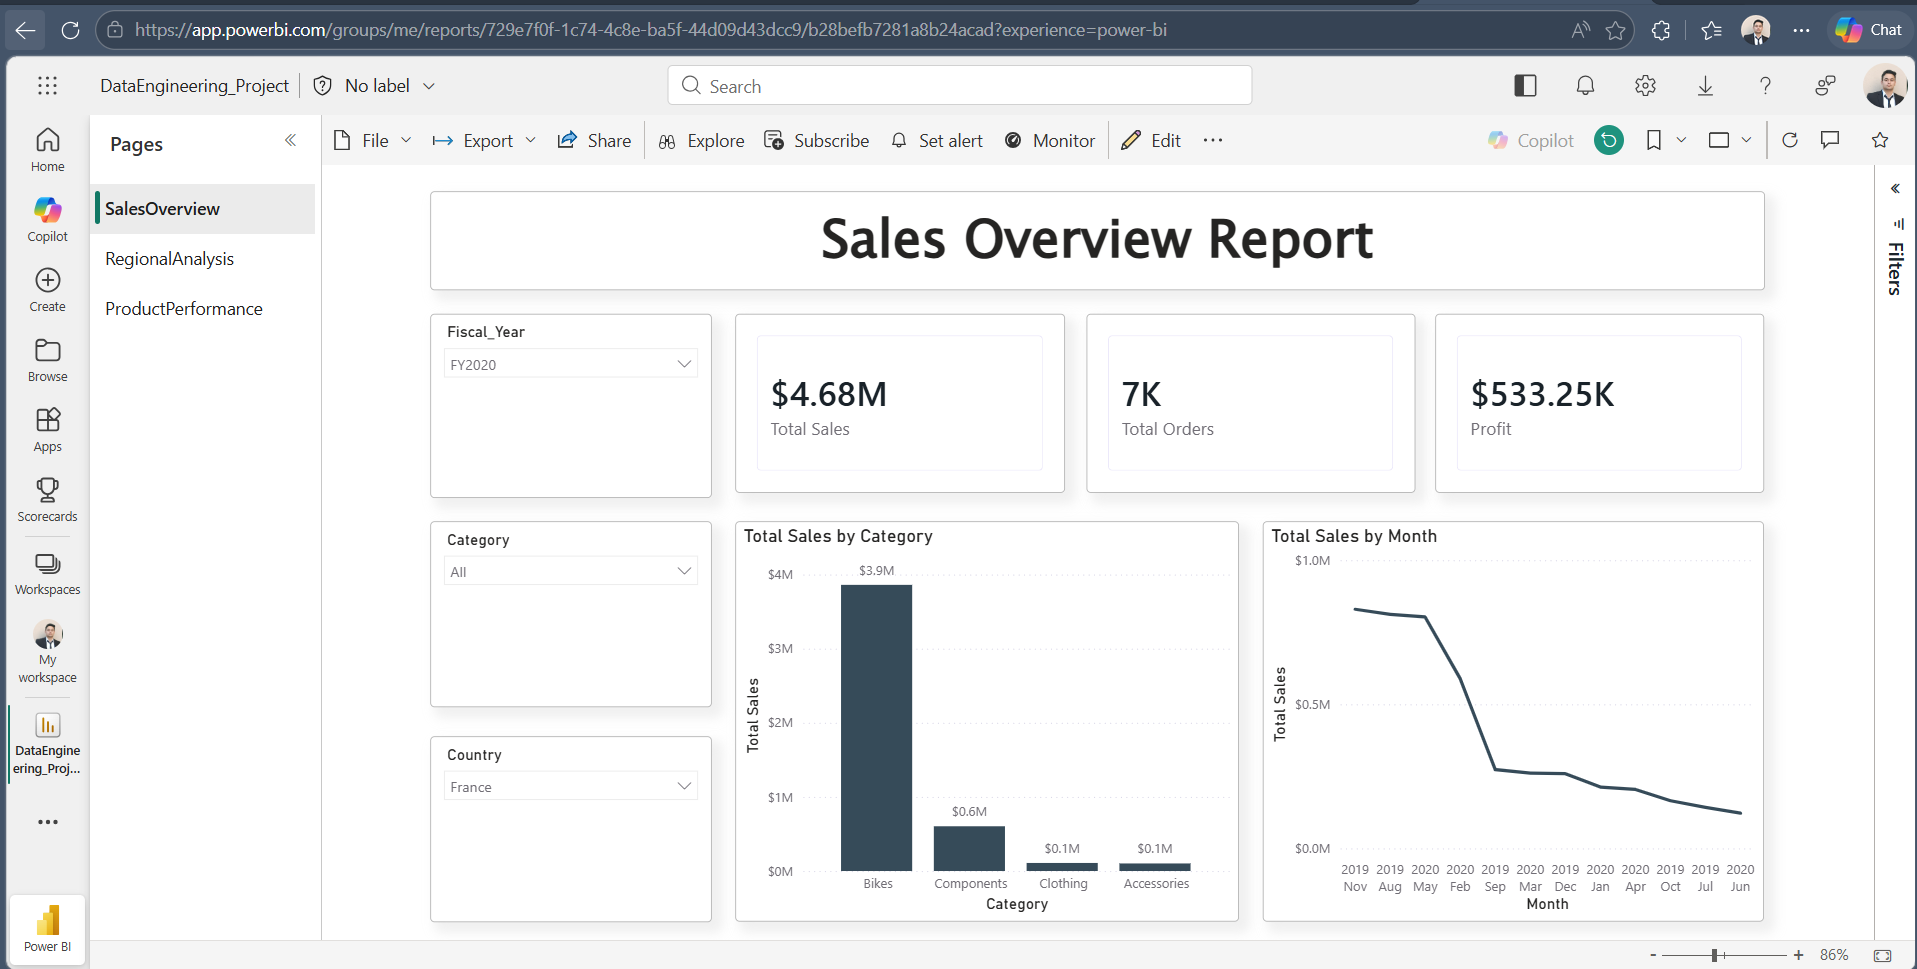

This screenshot's page, from the dashboard's own definition file:
{"tool":"powerbi","page":{"name":"SalesOverview","canvas":[1280,720],"ordinal":0},"visuals":[{"type":"cardVisual","fields":{"Data":["Measure.Total Sales"]},"box":[303.3,138.2,306,166.3],"z":0},{"type":"cardVisual","fields":{"Data":["Measure.Total Orders"]},"box":[629.8,138.2,305.7,166.3],"z":1},{"type":"cardVisual","fields":{"Data":["Measure.Profit"]},"box":[953.8,138.2,305.7,166.3],"z":2},{"type":"lineChart","fields":{"Category":["dim_date.Month"],"Y":["Measure.Total Sales"]},"box":[793.6,331.4,465.9,371.7],"z":3},{"type":"clusteredColumnChart","fields":{"Category":["dim_product.Category"],"Y":["Measure.Total Sales"]},"box":[303.3,331.4,468.3,371.7],"z":4},{"type":"slicer","fields":{"Values":["dim_date.Fiscal_Year"]},"box":[19.6,138.2,261.7,171.2],"z":5},{"type":"slicer","fields":{"Values":["fact_sales.Category"]},"box":[19.6,331.4,261.7,172.4],"z":6},{"type":"slicer","fields":{"Values":["dim_territory.Country"]},"box":[19.6,530.7,261.7,172.4],"z":7},{"type":"textbox","box":[19.6,24.5,1240,91.7],"z":8}]}

Visuals, with their boxes on the page's 1280x720 design canvas (x1, y1, x2, y2). These are canvas units, not pixel positions in the 1917x969 screenshot, which may show the page scaled, cropped or inside an application window:
cardVisual - Measure.Total Sales: {"x1": 303, "y1": 138, "x2": 609, "y2": 304}
cardVisual - Measure.Total Orders: {"x1": 630, "y1": 138, "x2": 936, "y2": 304}
cardVisual - Measure.Profit: {"x1": 954, "y1": 138, "x2": 1260, "y2": 304}
lineChart - dim_date.Month x Measure.Total Sales: {"x1": 794, "y1": 331, "x2": 1260, "y2": 703}
clusteredColumnChart - dim_product.Category x Measure.Total Sales: {"x1": 303, "y1": 331, "x2": 772, "y2": 703}
slicer - dim_date.Fiscal_Year: {"x1": 20, "y1": 138, "x2": 281, "y2": 309}
slicer - fact_sales.Category: {"x1": 20, "y1": 331, "x2": 281, "y2": 504}
slicer - dim_territory.Country: {"x1": 20, "y1": 531, "x2": 281, "y2": 703}
textbox: {"x1": 20, "y1": 24, "x2": 1260, "y2": 116}
